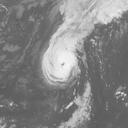cyclone: (41, 42, 82, 89)
